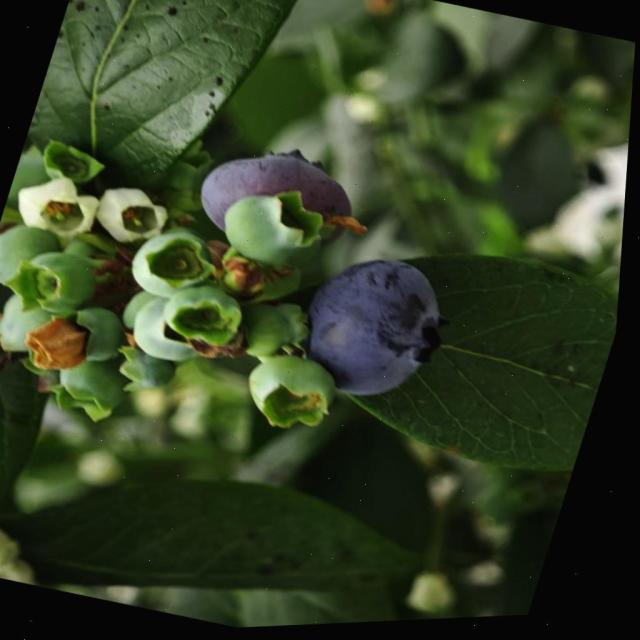RipeBlueBerry: (292, 242, 464, 416)
UnripeBlueBerry: (243, 350, 350, 442)
